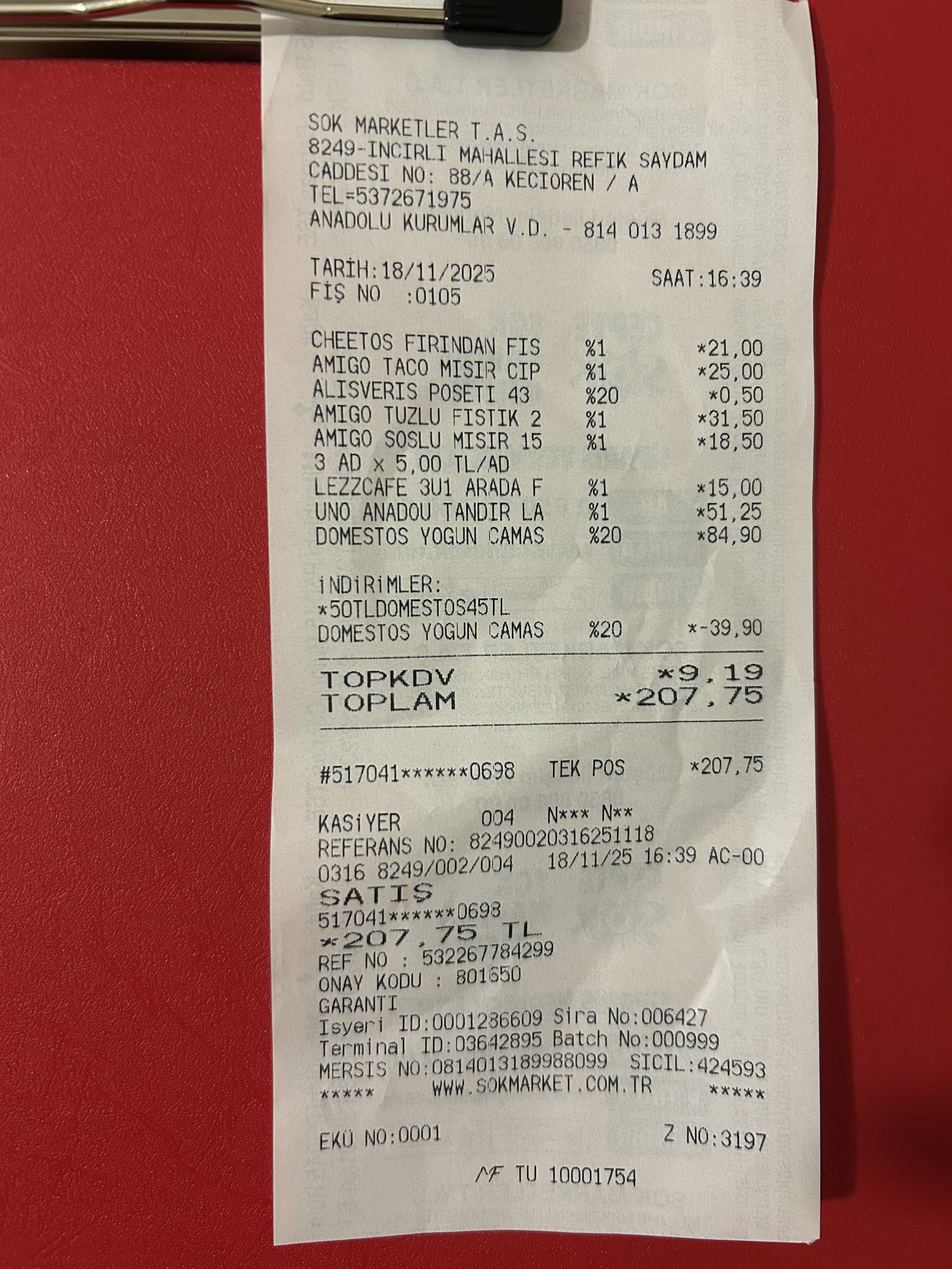date: (378, 255, 506, 285)
price: (627, 682, 776, 713)
workplace: (293, 97, 729, 197)
